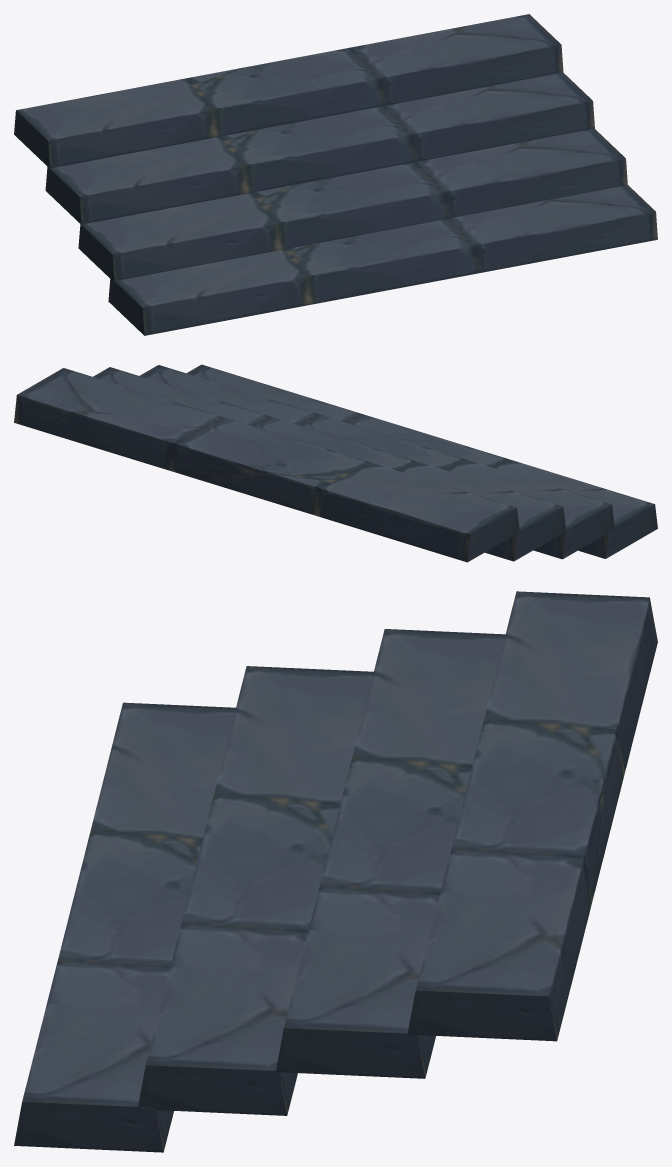
The model's file is Area_01_6.fbx.
The picture shows the model from 3 angles, top to bottom: view 1: azimuth 30°, elevation 25°; view 2: azimuth 150°, elevation 25°; view 3: azimuth 270°, elevation 25°; orthographic projection. The views are drawn at different scales.
Visible parts, largest first — view 1: Area_01_6; view 2: Area_01_6; view 3: Area_01_6.
Part boxes in pixels (left/top/right/bottom): Area_01_6: left=14, top=14, right=657, bottom=335; Area_01_6: left=14, top=364, right=657, bottom=562; Area_01_6: left=14, top=591, right=657, bottom=1152.
Bounding box in the file's own units: 1104 × 211 × 709.
